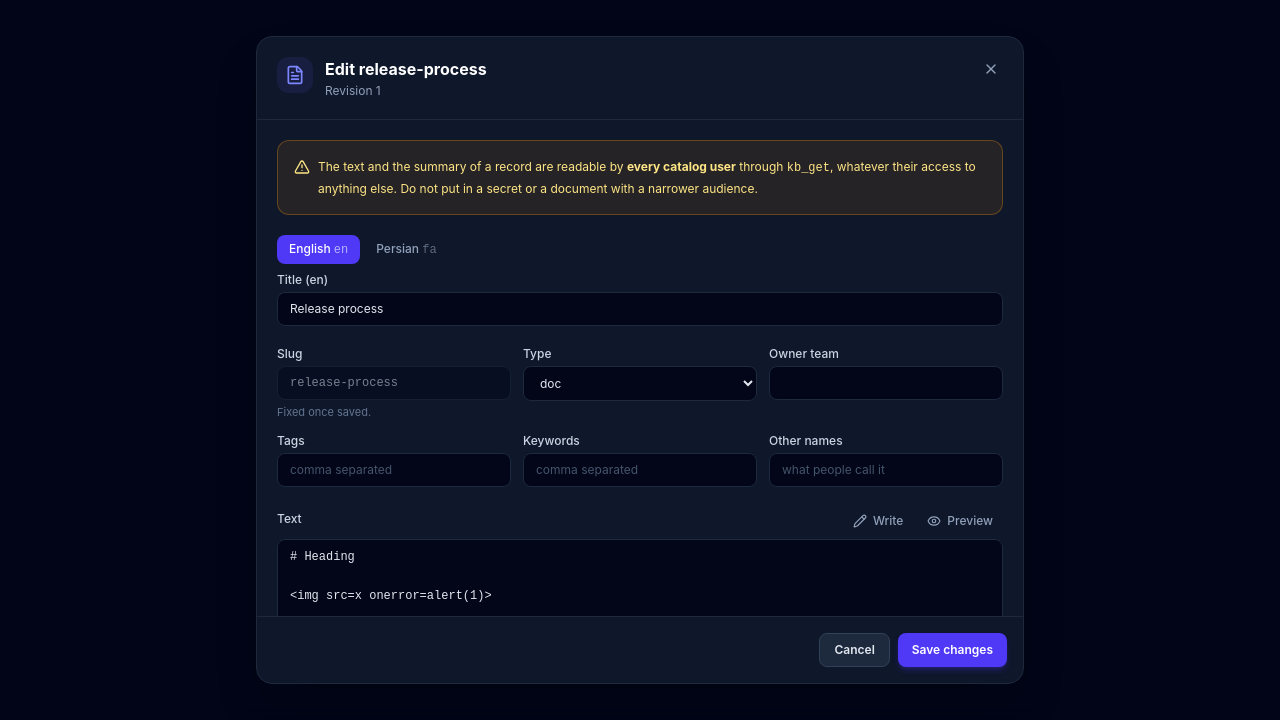
FormEditorModal › previews the Markdown without running anything in it
Step 1. Click the button "Preview" → x=960, y=520, box left=917, top=506, right=1003, bottom=534
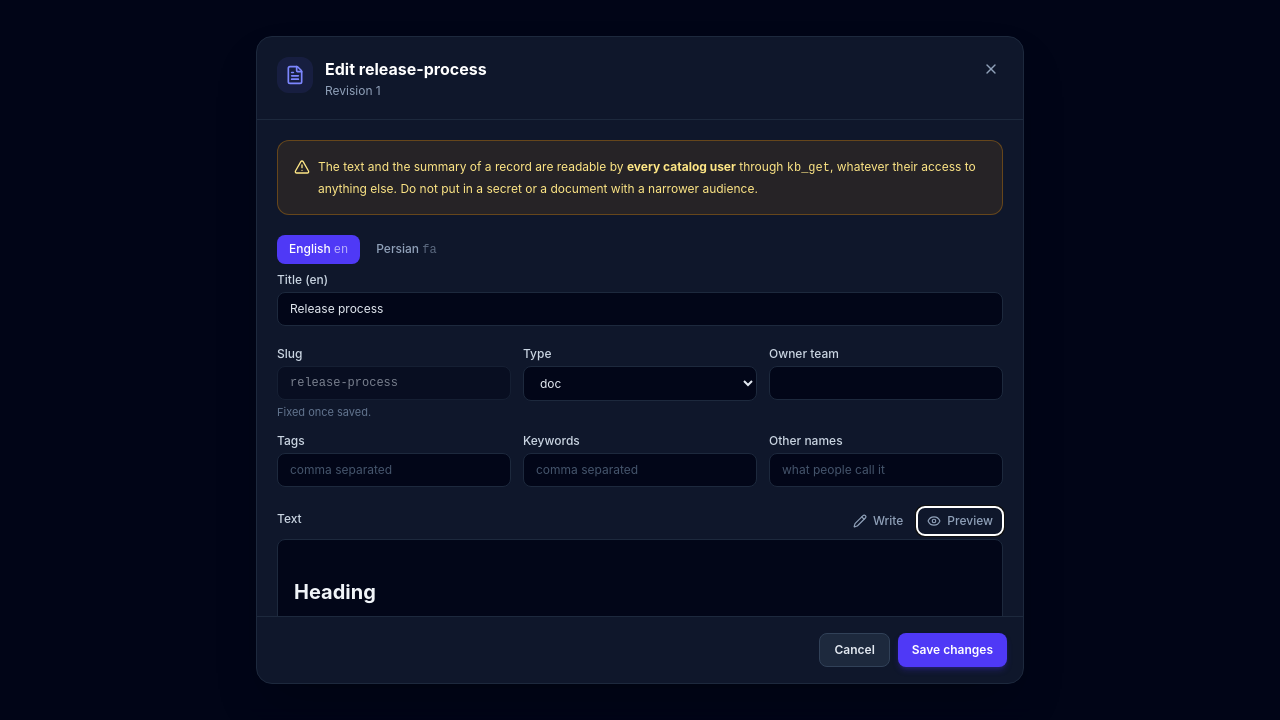
Expected: the field labelled "Preview" does not show "onerror"
Expected: the heading "Heading" is shown, left=294, top=580, right=376, bottom=604
